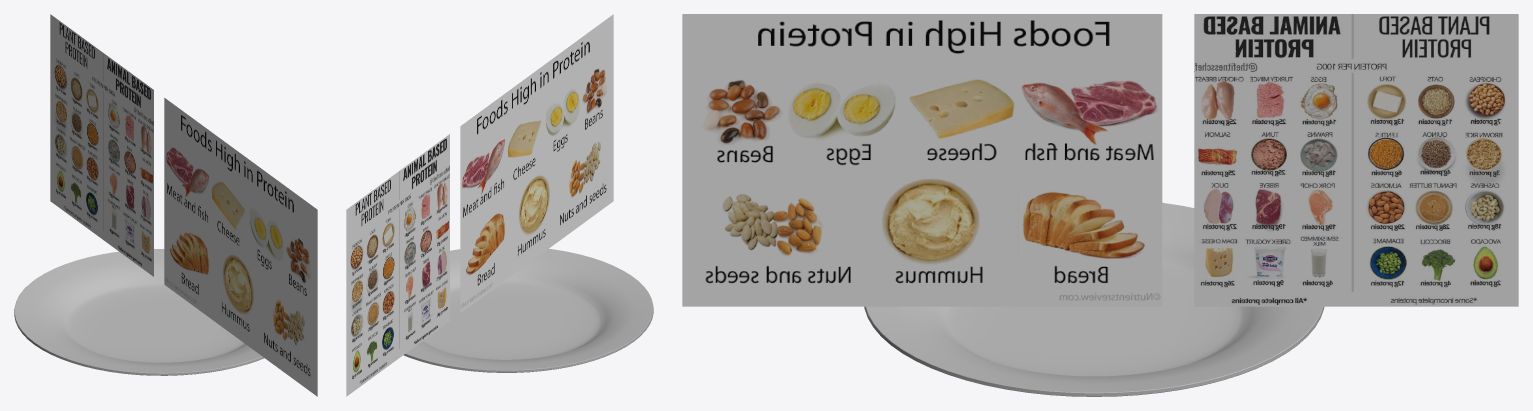
Rendered from protein.glb.
3 renders of one model, left to right at view 1: azimuth 30°, elevation 25°; view 2: azimuth 150°, elevation 25°; view 3: azimuth 270°, elevation 25°, orthographic. The views are drawn at different scales.
Parts seen in each view (by area): view 1: protein_content_1, plate, protein_content_2; view 2: protein_content_1, plate, protein_content_2; view 3: protein_content_1, protein_content_2, plate.
Boxes of the visible parts, bbox=[...] form: protein_content_1: bbox=[164, 98, 317, 396]; plate: bbox=[14, 249, 264, 375]; protein_content_2: bbox=[50, 14, 153, 276]; protein_content_1: bbox=[460, 14, 613, 312]; plate: bbox=[403, 249, 653, 372]; protein_content_2: bbox=[346, 134, 449, 396]; protein_content_1: bbox=[682, 14, 1162, 306]; protein_content_2: bbox=[1194, 14, 1518, 306]; plate: bbox=[864, 202, 1324, 396].
Bounding box in the file's own units: 2.92 × 2.29 × 5.29.
Materials: 3 (2 with a texture image).
